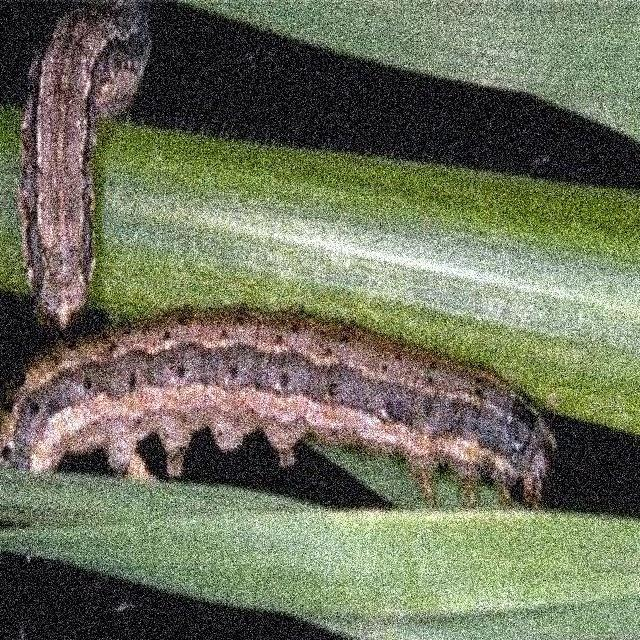gusano_cogollero: (11, 305, 566, 497), (27, 15, 115, 325)
